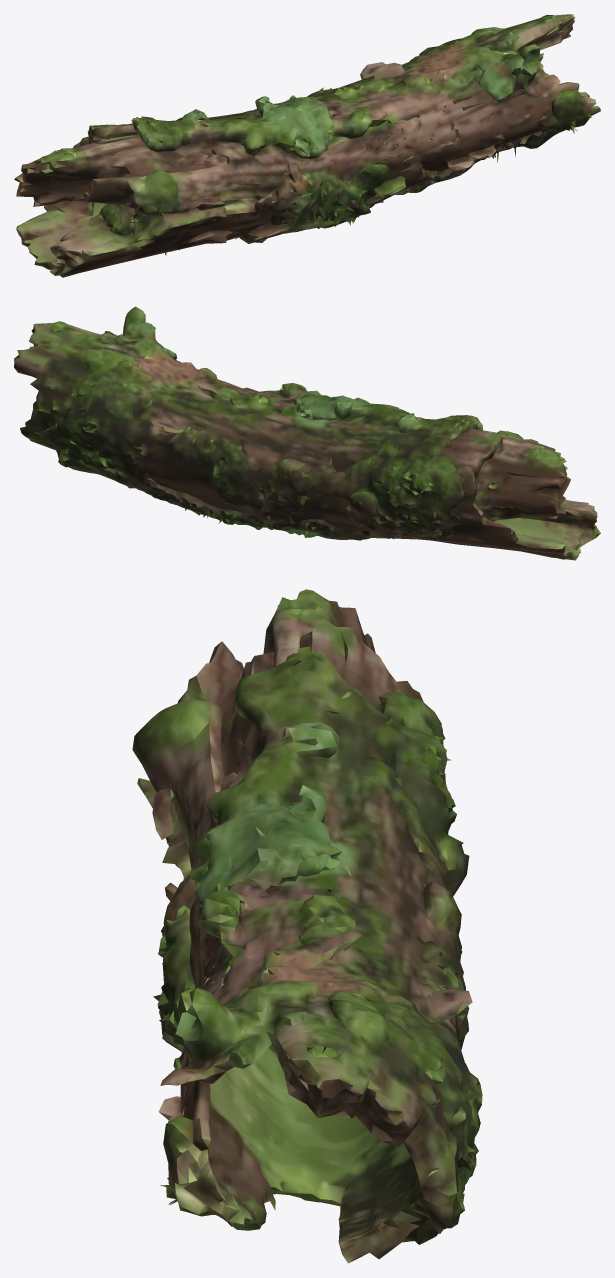
The model's file is LogMossy.glb.
The picture shows the model from 3 angles, top to bottom: view 1: azimuth 30°, elevation 25°; view 2: azimuth 150°, elevation 25°; view 3: azimuth 270°, elevation 25°; orthographic projection. The views are drawn at different scales.
Parts seen in each view (by area): view 1: LogMossy; view 2: LogMossy; view 3: LogMossy.
Part boxes in pixels (<box>): LogMossy: <box>14,14,600,277</box>; LogMossy: <box>14,306,600,560</box>; LogMossy: <box>132,589,482,1263</box>.
Size of the model in its own units: 2.89 by 0.7852 by 0.8076.
1 material, 1 textured.
